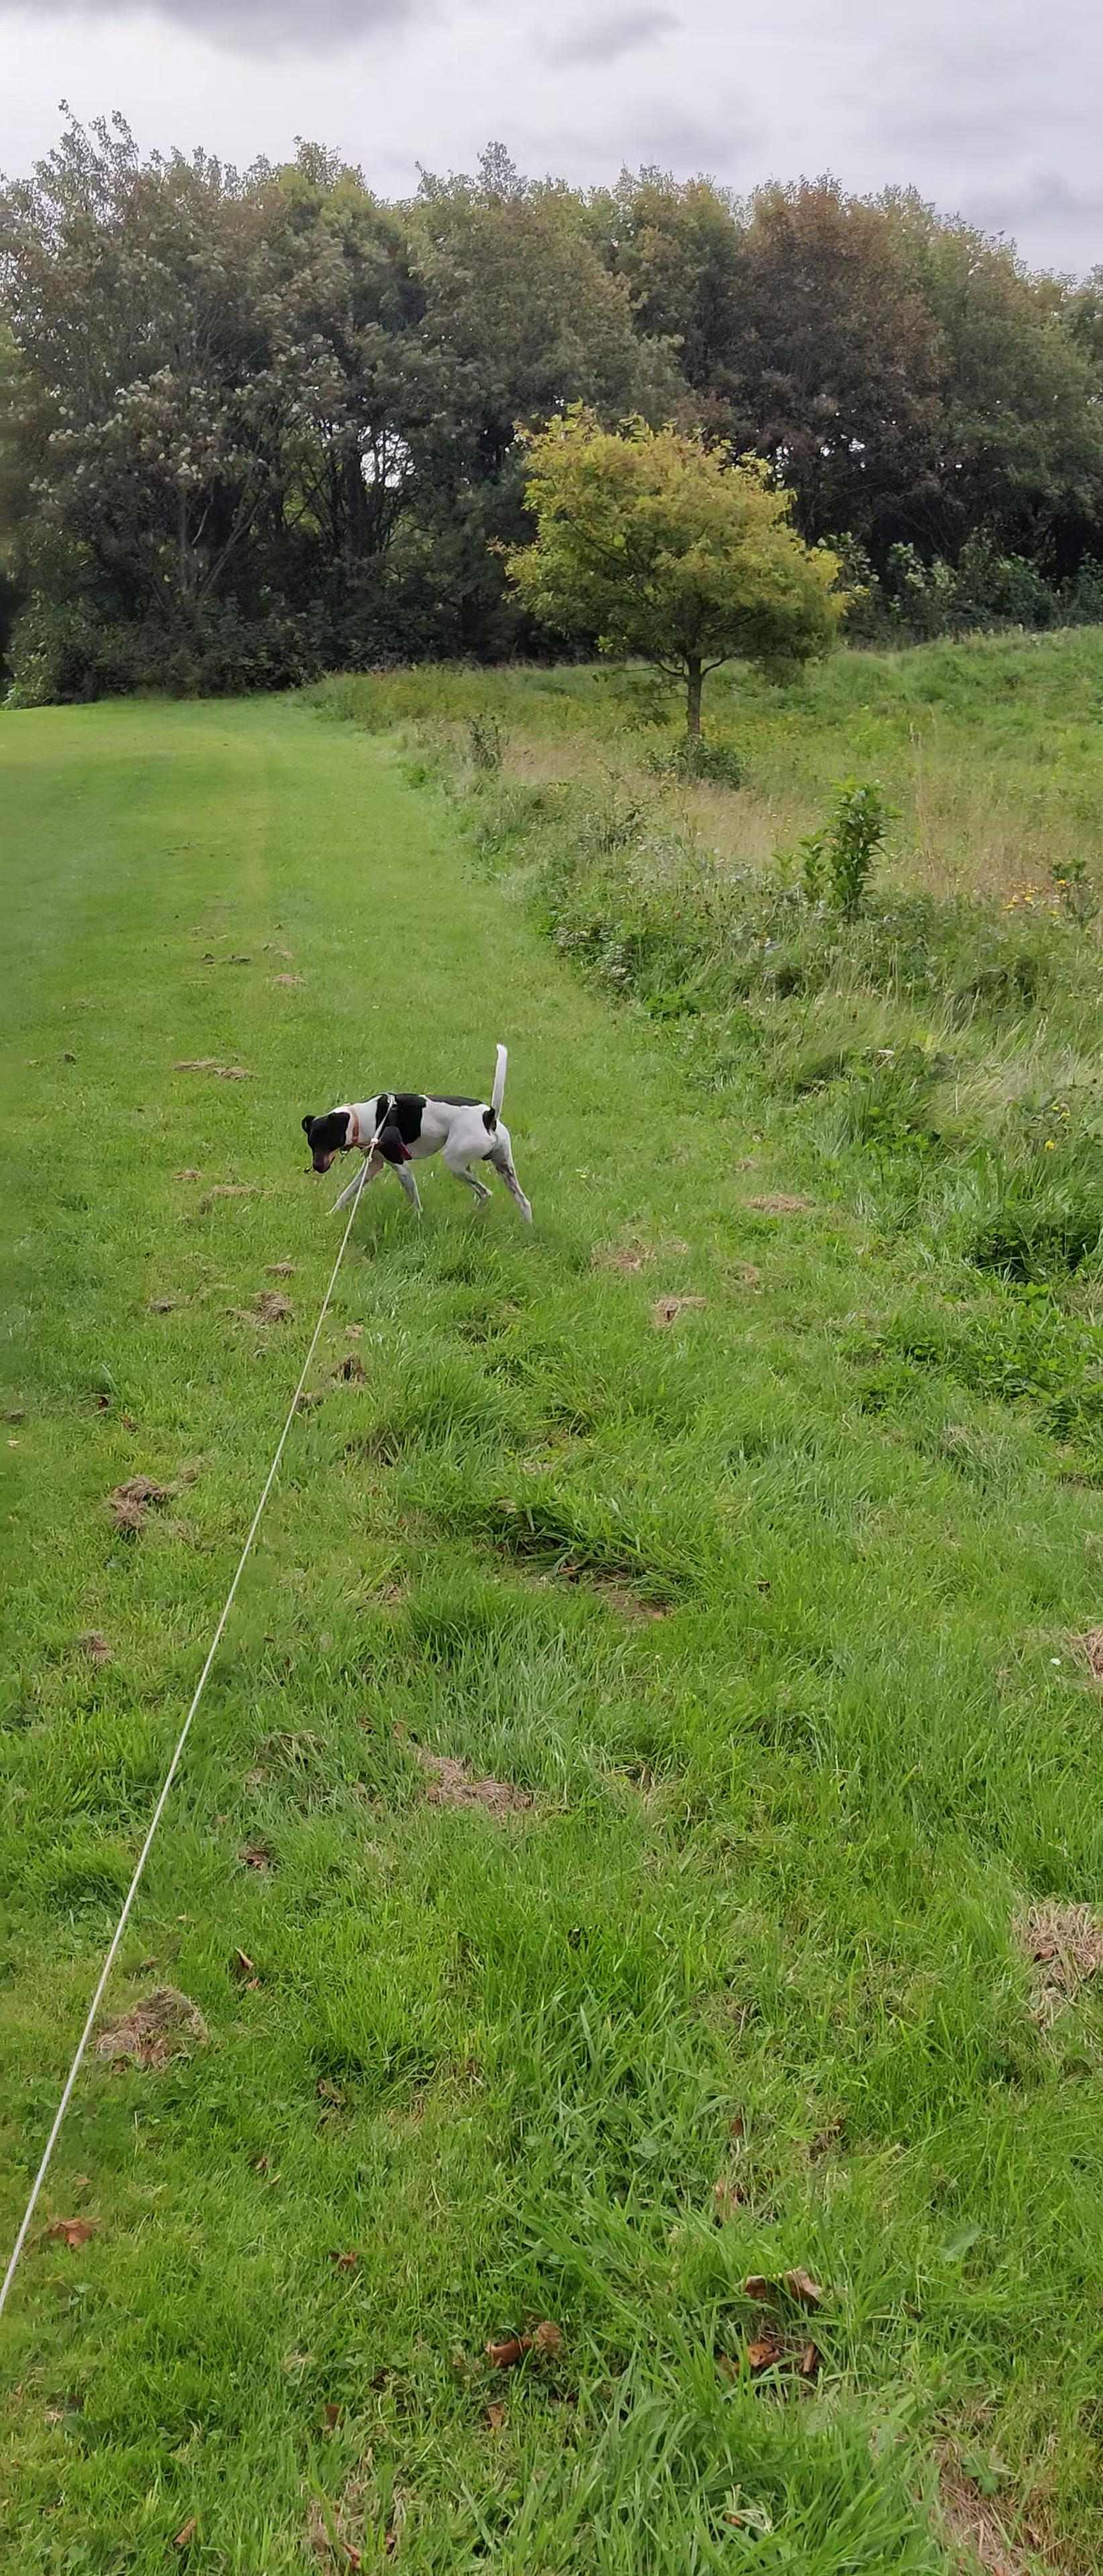Dog: (296, 1040, 536, 1227)
